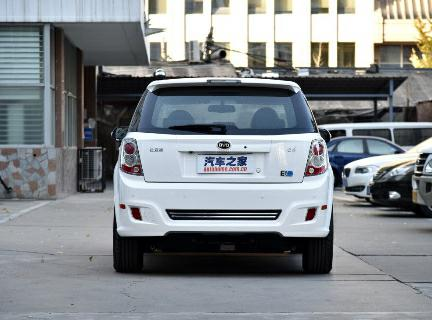比亚迪-e6: (110, 69, 343, 280)
